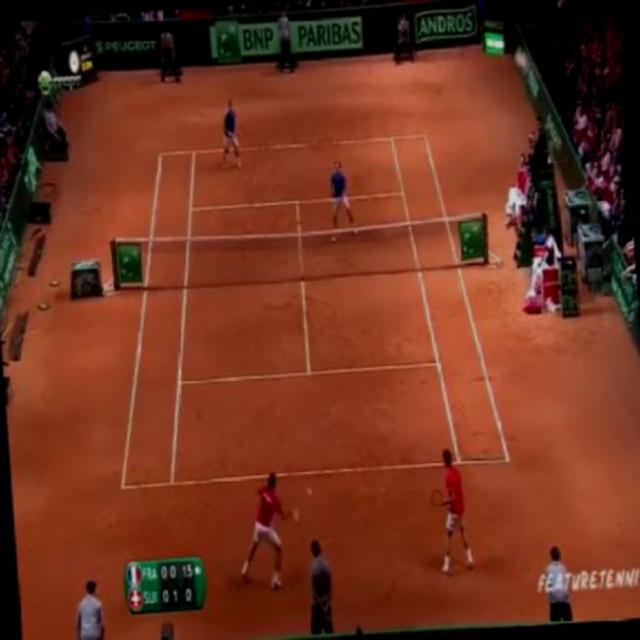non-fight: (232, 469, 303, 589), (426, 442, 474, 582), (324, 154, 359, 243), (215, 95, 242, 171)
